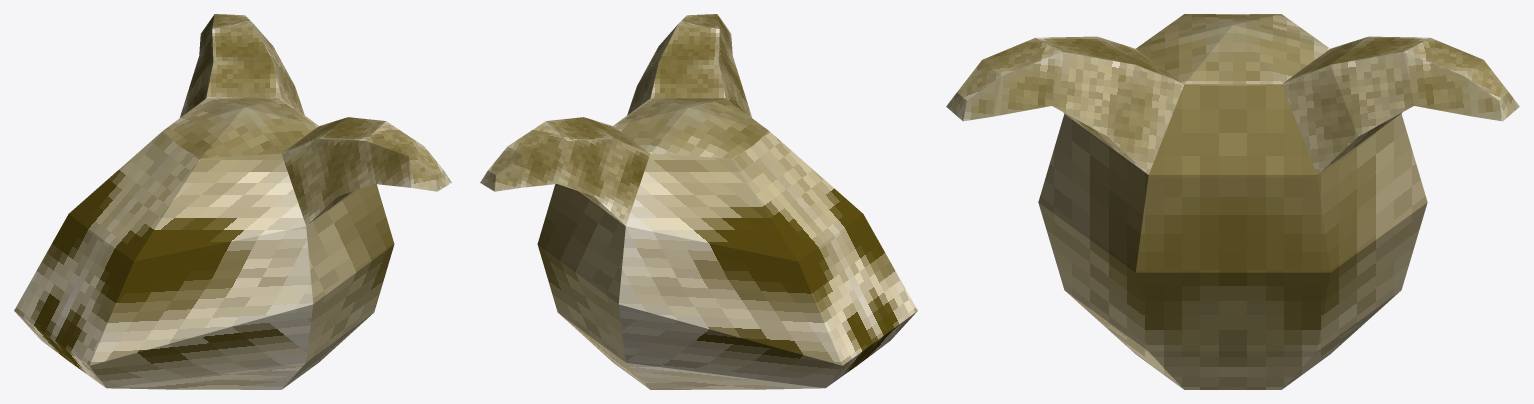
Rendered from cattleskull.fbx.
The picture shows the model from 3 angles, left to right: view 1: azimuth 30°, elevation 25°; view 2: azimuth 150°, elevation 25°; view 3: azimuth 270°, elevation 25°; orthographic projection. The views are drawn at different scales.
Visible parts, largest first — view 1: Sphere; view 2: Sphere; view 3: Sphere.
Part boxes in pixels (x1,y1,x2,y2): Sphere: [14, 14, 451, 389]; Sphere: [480, 14, 917, 389]; Sphere: [946, 14, 1519, 389].
Bounding box in the file's own units: 234 × 199 × 295.
1 material, 1 textured.
